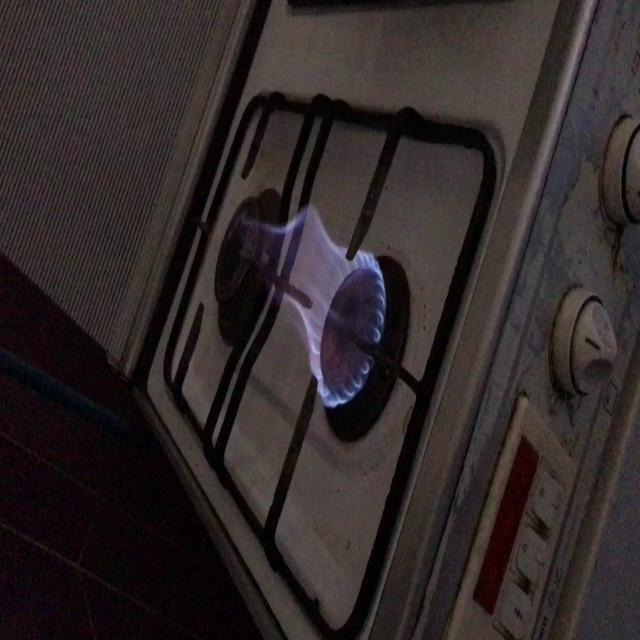Fire: (236, 194, 397, 408)
